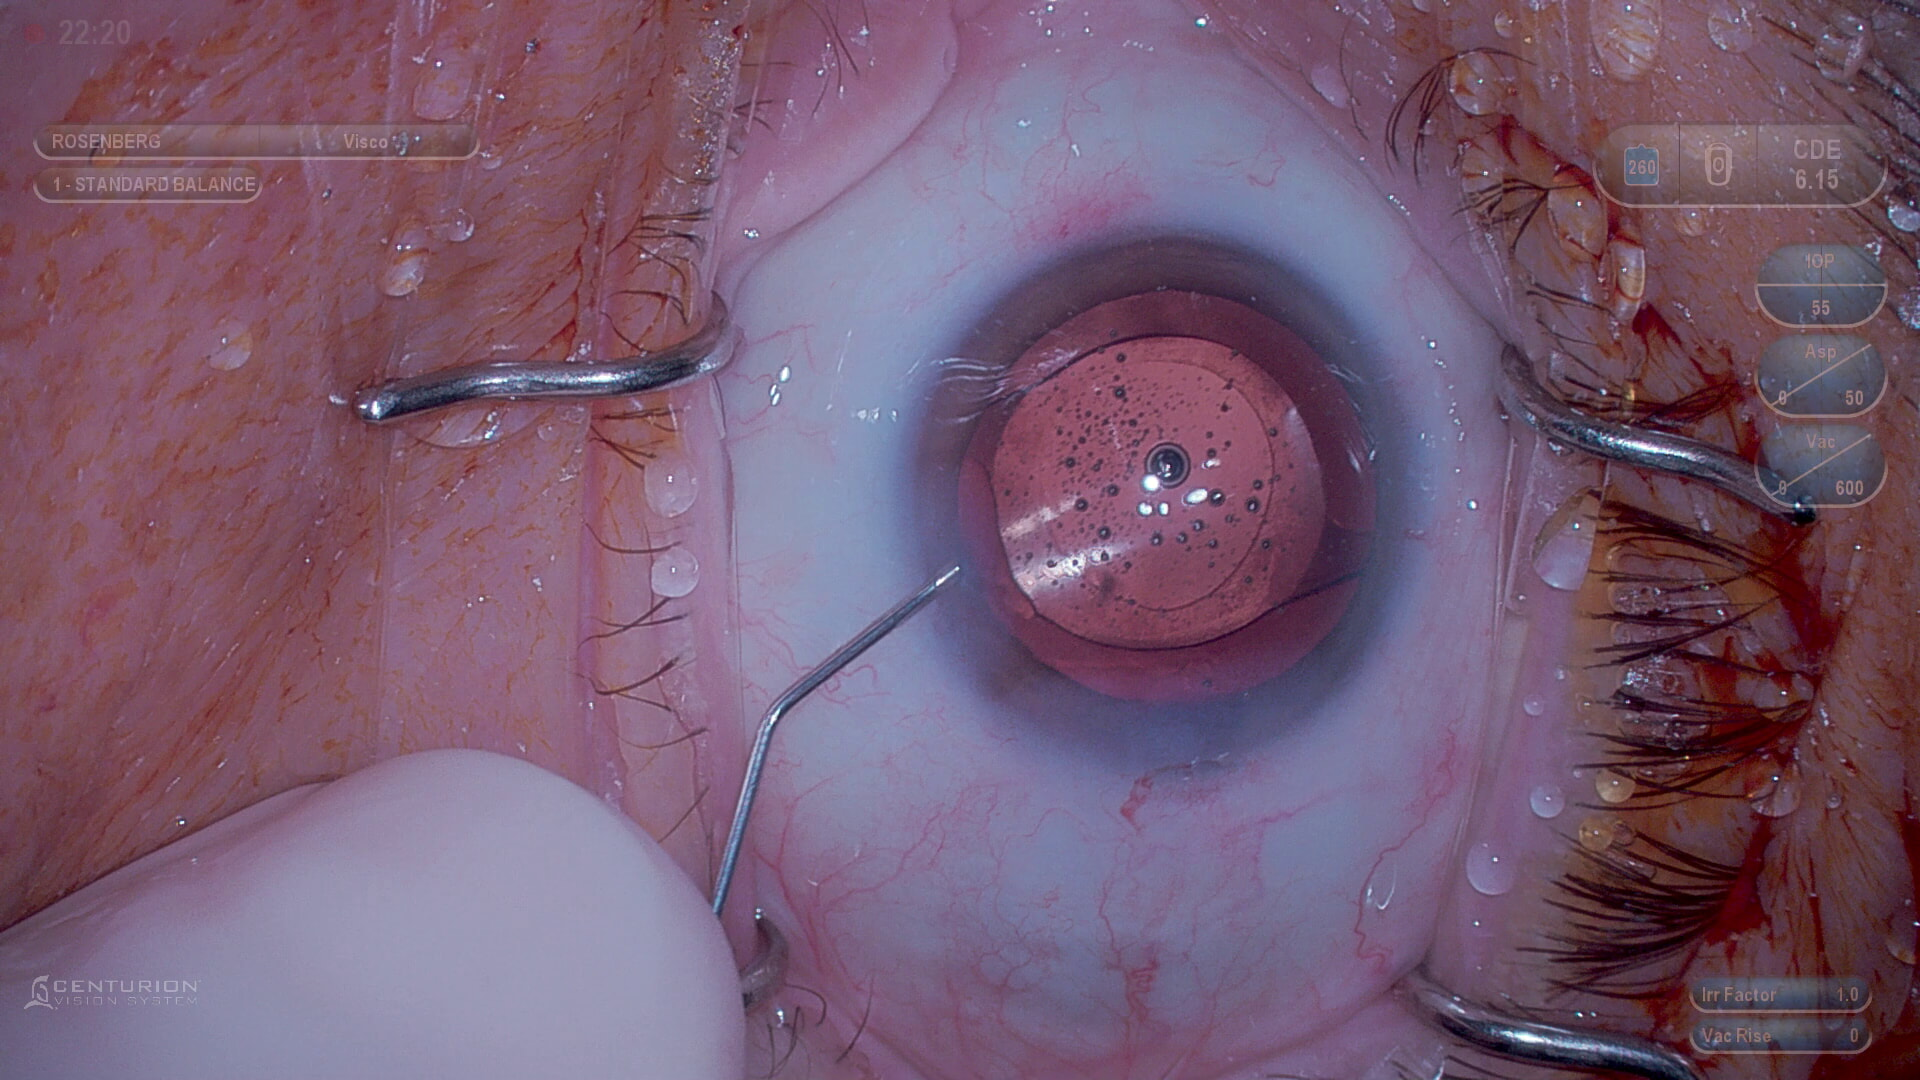iris: (910, 239, 1413, 758)
pupil: (969, 285, 1372, 699)
